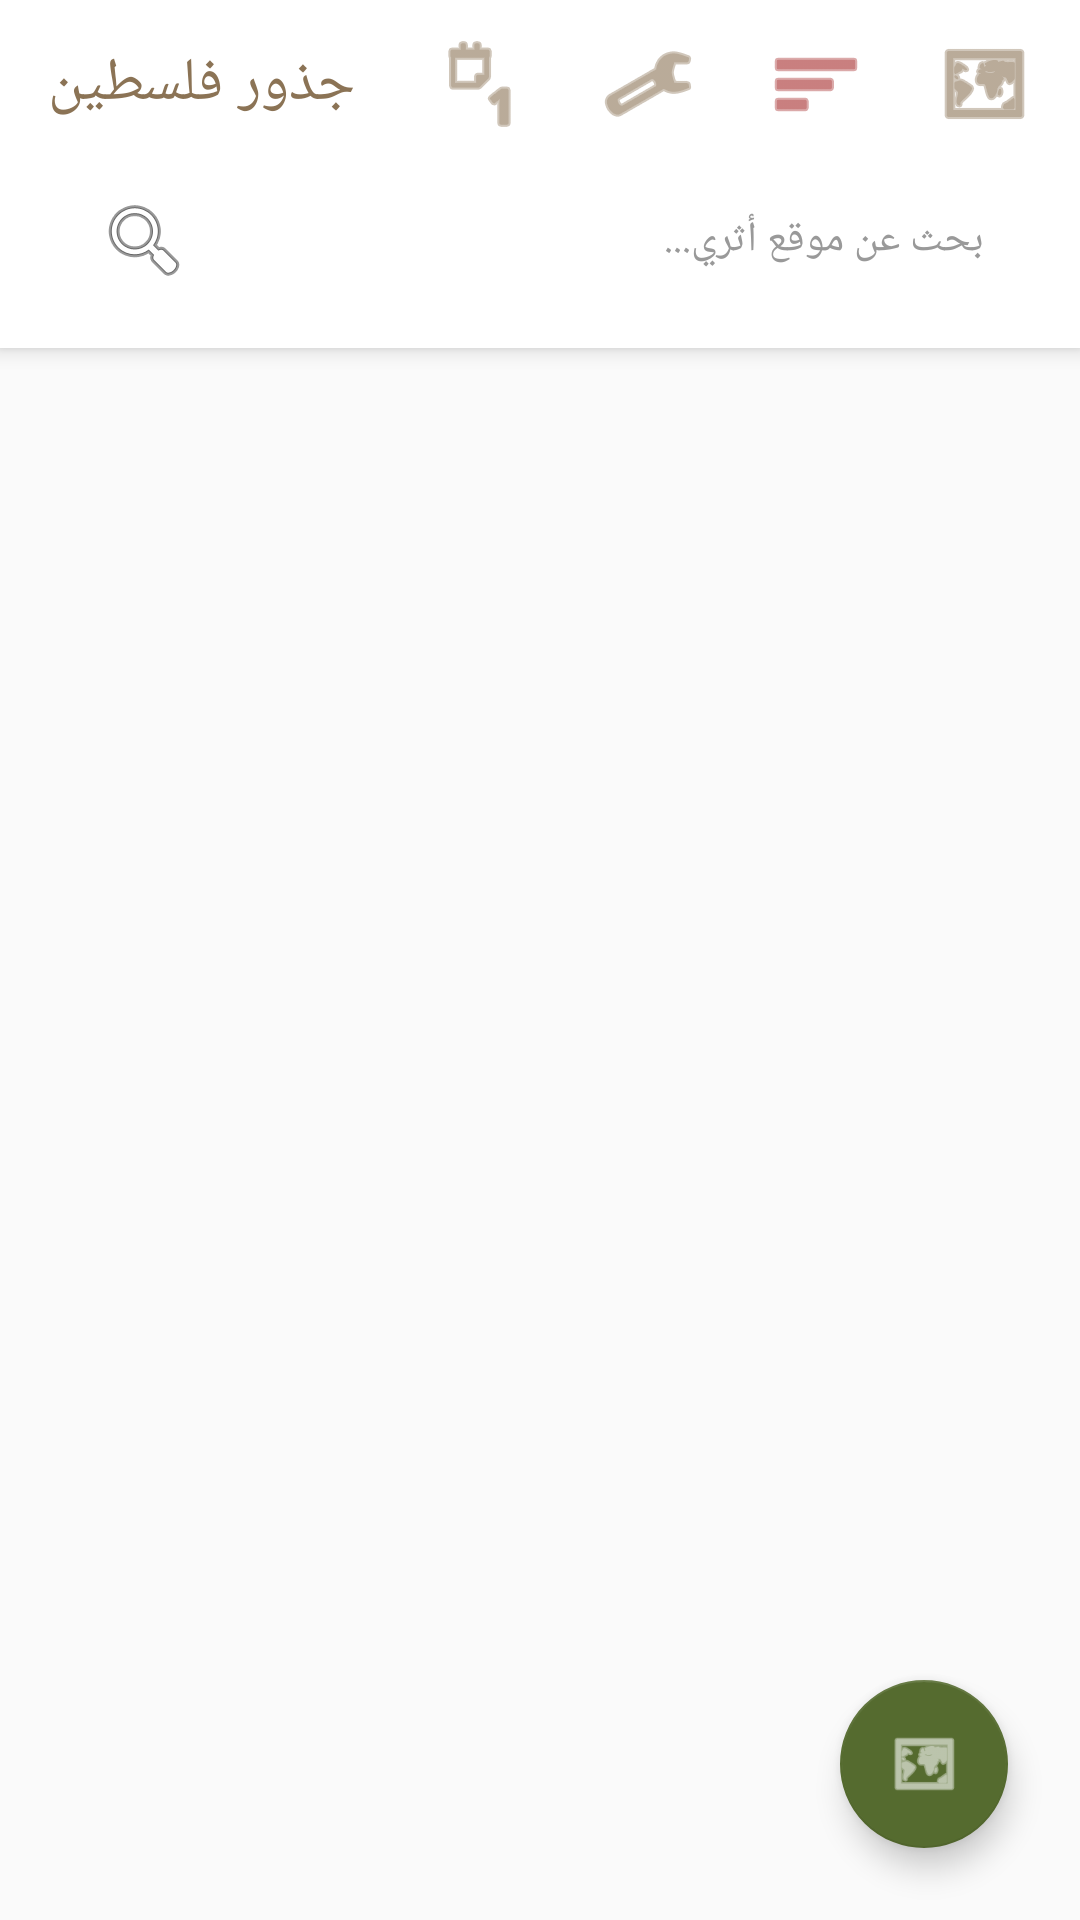

Icon bounding boxes for this 1080×1920 phone screenshot, format (x1, y1, x2, y2):
الخريطة: (945, 49, 1024, 119), (840, 1680, 1008, 1848)
